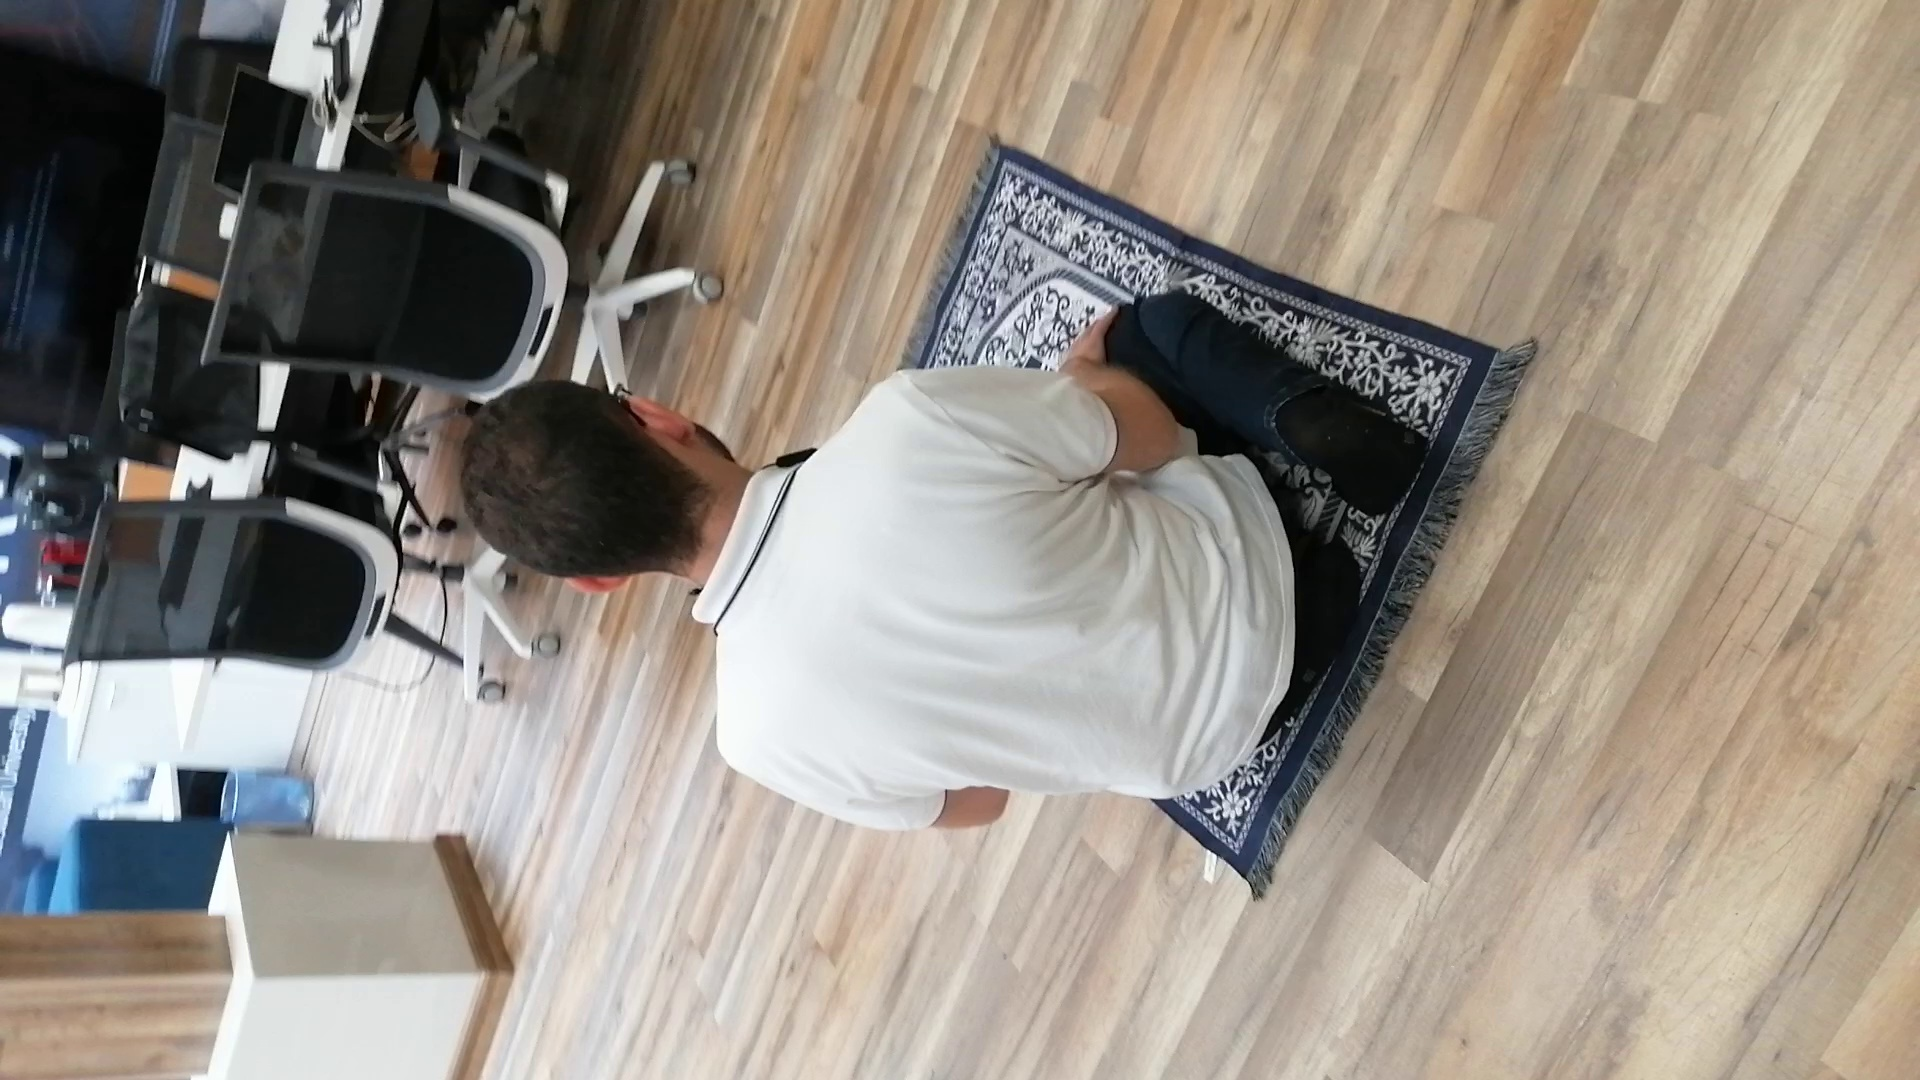sitting: (448, 277, 1423, 844)
